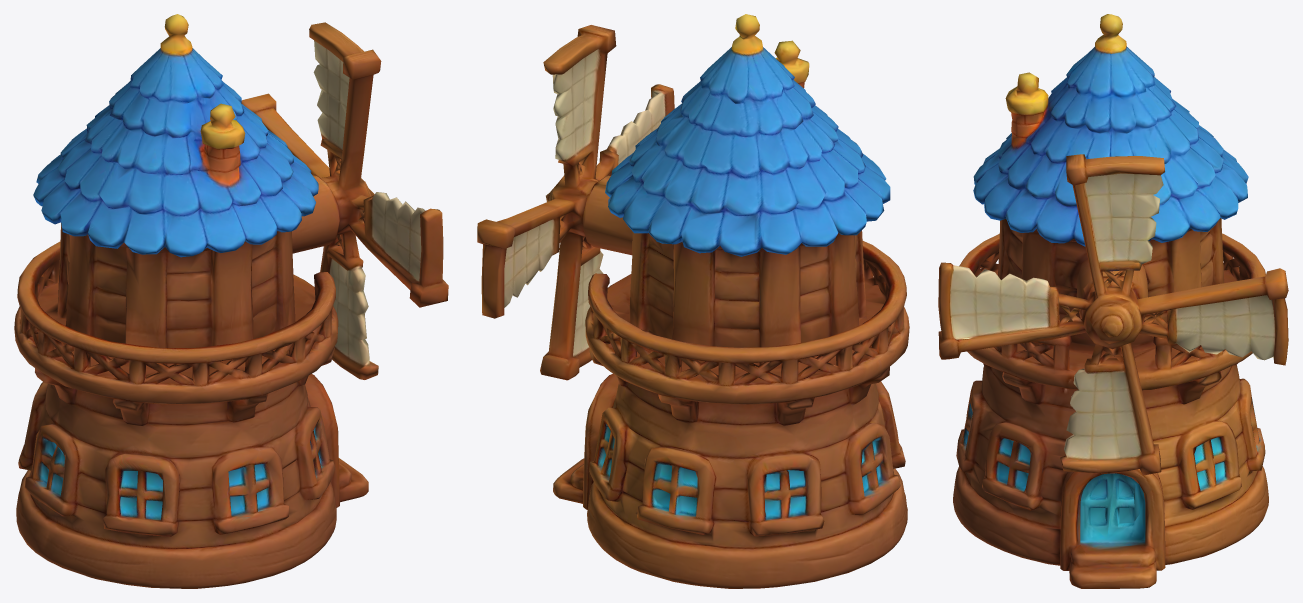
The model's file is windmill.glb.
3 views of the same model, side by side, from view 1: azimuth 30°, elevation 25°; view 2: azimuth 150°, elevation 25°; view 3: azimuth 270°, elevation 25° (orthographic). The views are drawn at different scales.
Parts seen in each view (by area): view 1: tripo_node_8f702920-290b-40aa-aae9-449bc650be4c; view 2: tripo_node_8f702920-290b-40aa-aae9-449bc650be4c; view 3: tripo_node_8f702920-290b-40aa-aae9-449bc650be4c.
Part boxes in pixels (<box>): tripo_node_8f702920-290b-40aa-aae9-449bc650be4c: <box>14,14,448,588</box>; tripo_node_8f702920-290b-40aa-aae9-449bc650be4c: <box>477,14,909,588</box>; tripo_node_8f702920-290b-40aa-aae9-449bc650be4c: <box>938,14,1288,588</box>.
Bounding box in the file's own units: 0.1389 × 0.2 × 0.1287.
1 material, 1 textured.
